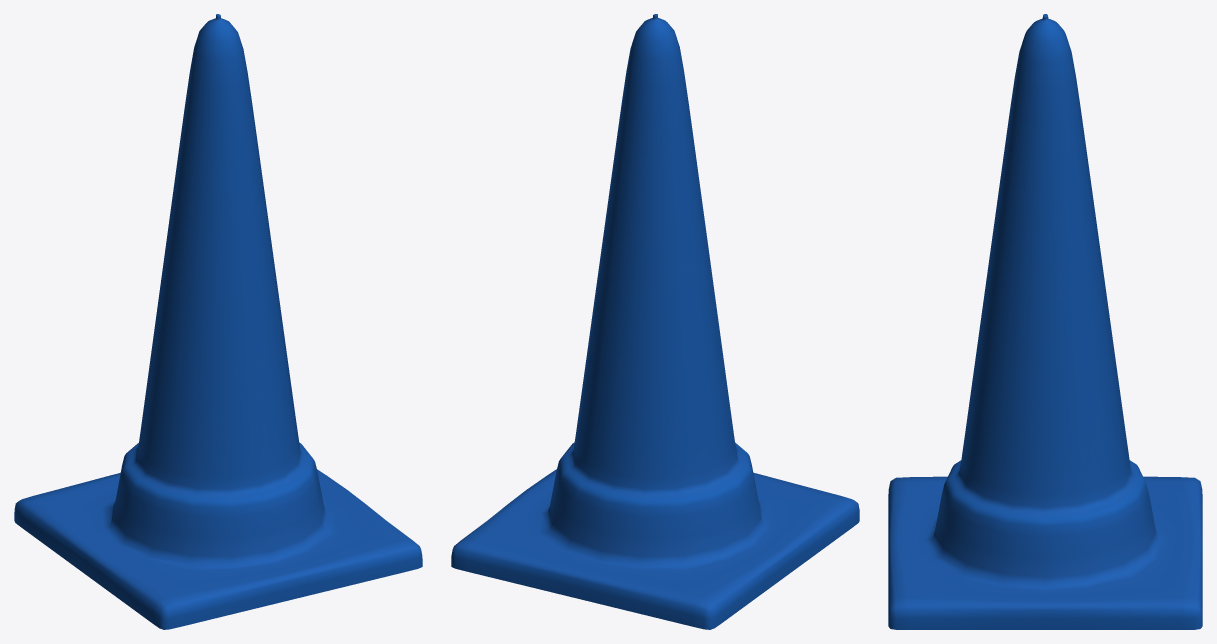
File: ColorCone_Basic_Blue_NoWeight.fbx
3 renders of one model, left to right at view 1: azimuth 30°, elevation 25°; view 2: azimuth 150°, elevation 25°; view 3: azimuth 270°, elevation 25°, orthographic. The views are drawn at different scales.
Visible parts, largest first — view 1: ColorCone_Basic_Blue_NoWeight; view 2: ColorCone_Basic_Blue_NoWeight; view 3: ColorCone_Basic_Blue_NoWeight.
Part boxes in pixels (box(x1,y1,x2,y2)): ColorCone_Basic_Blue_NoWeight: box(14, 14, 422, 629); ColorCone_Basic_Blue_NoWeight: box(451, 14, 859, 629); ColorCone_Basic_Blue_NoWeight: box(888, 14, 1202, 629).
Size of the model in its own units: 38 by 38 by 73.14.
Materials: 1 (1 with a texture image).
